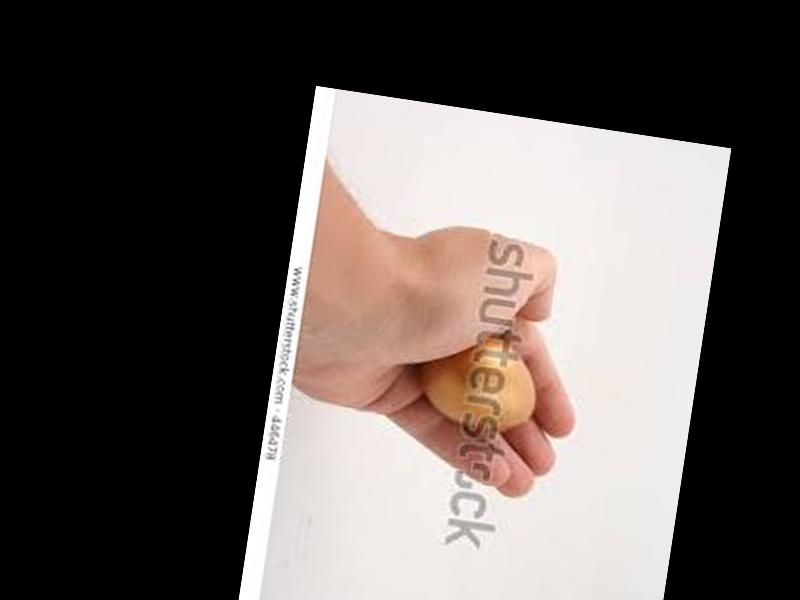Eggs: (416, 331, 542, 435)
